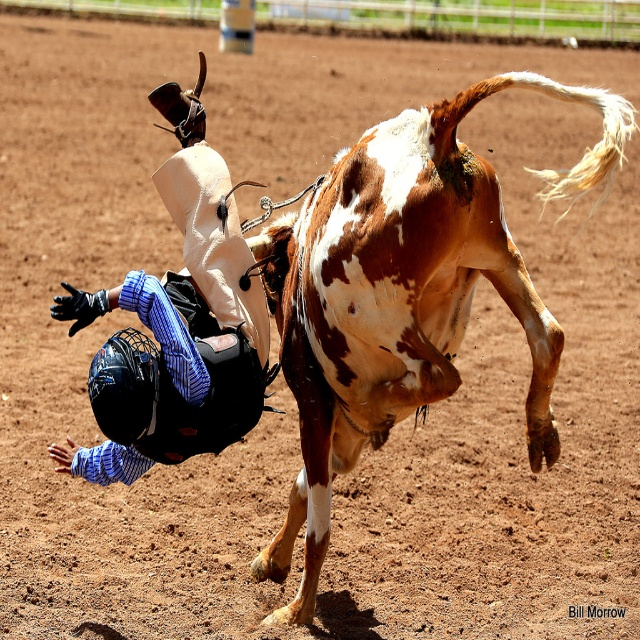Cattle: (245, 69, 640, 627)
